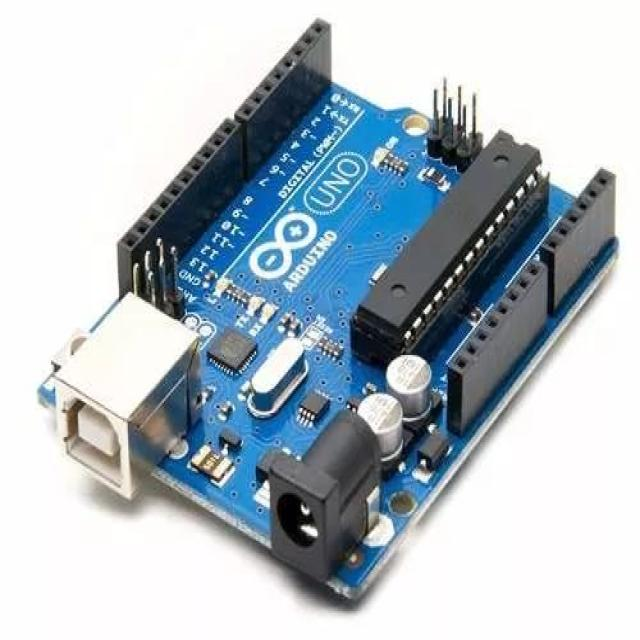Arduino: (0, 3, 639, 640)
